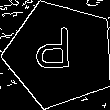P_S: (40, 28, 80, 81)
